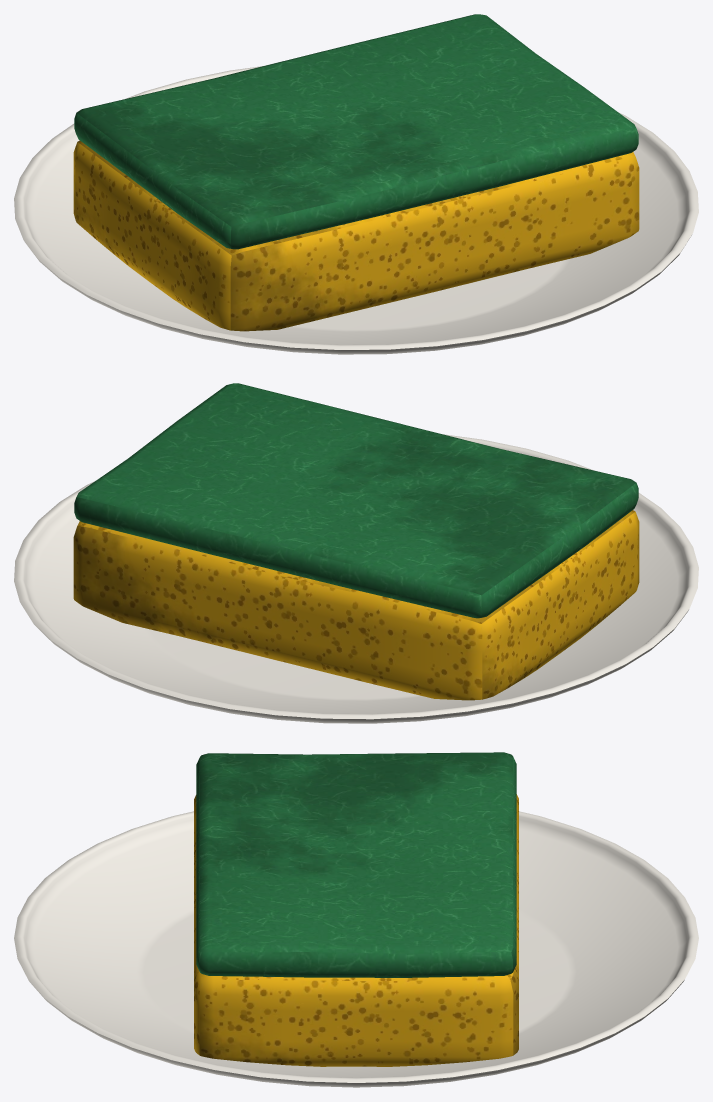
File: sponge.glb
3 renders of one model, top to bottom at view 1: azimuth 30°, elevation 25°; view 2: azimuth 150°, elevation 25°; view 3: azimuth 270°, elevation 25°, orthographic.
Visible parts, largest first — view 1: scour_pad, sponge_body, dish; view 2: scour_pad, sponge_body, dish; view 3: dish, scour_pad, sponge_body.
Part boxes in pixels (box(x1,y1,x2,y2)): scour_pad: box(74, 14, 638, 249); sponge_body: box(73, 140, 639, 331); dish: box(14, 66, 698, 354); scour_pad: box(74, 383, 638, 618); sponge_body: box(73, 510, 639, 700); dish: box(14, 434, 698, 723); dish: box(14, 811, 698, 1087); scour_pad: box(196, 752, 516, 977); sponge_body: box(194, 794, 518, 1066).
Bounding box in the file's own units: 0.1391 × 0.032 × 0.1391.
Materials: 3 (2 with a texture image).
